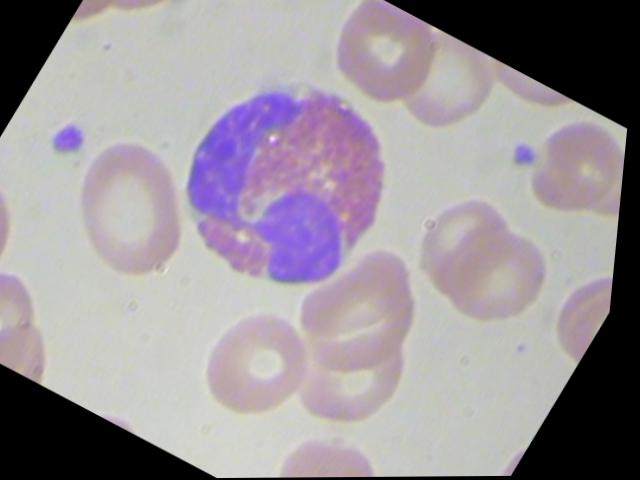Platelets: (37, 109, 109, 176), (503, 135, 553, 181)
Red Blood Cells: (38, 116, 236, 303), (183, 287, 345, 441), (419, 200, 580, 353), (306, 0, 458, 126), (508, 103, 631, 239), (269, 407, 422, 477), (0, 175, 42, 300)
White Blood Cells: (130, 36, 447, 329)
